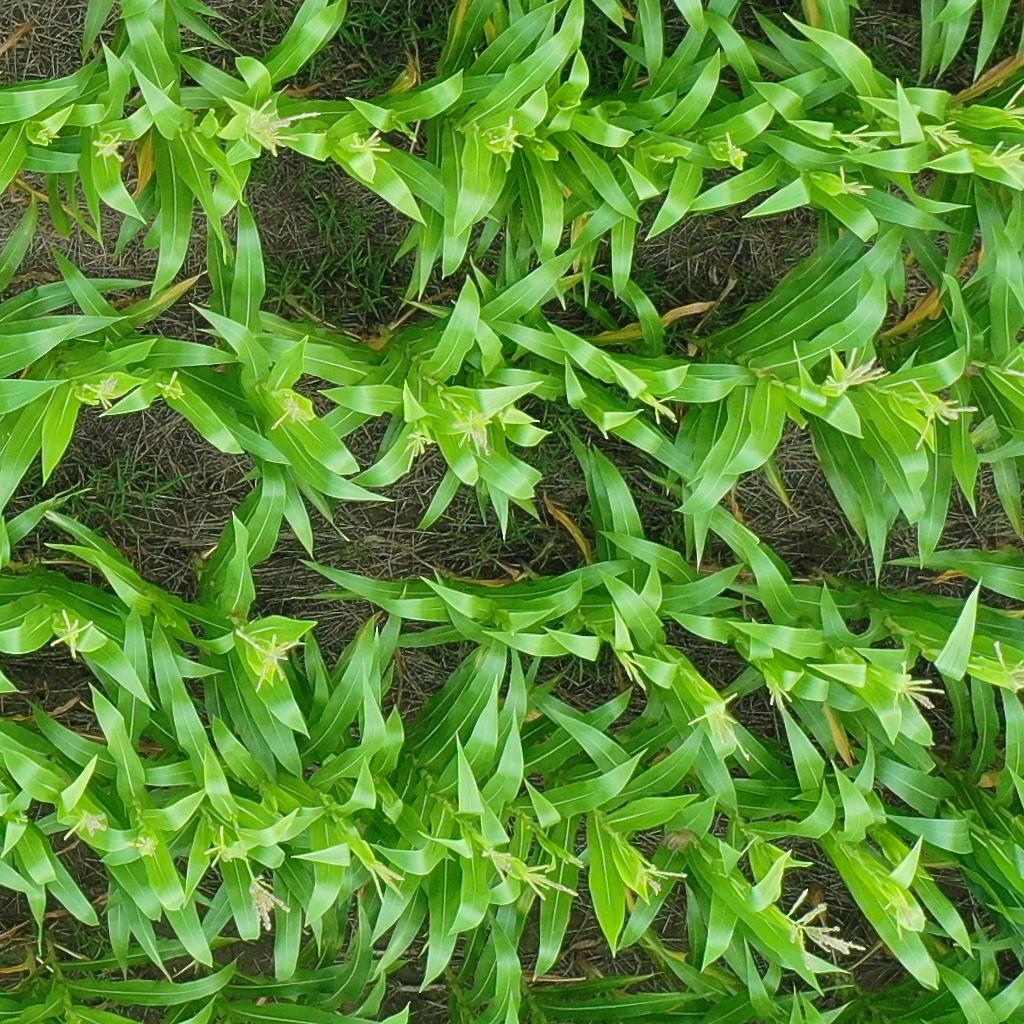Tassel: (784, 886, 867, 973), (239, 94, 319, 161), (909, 377, 981, 450), (235, 624, 308, 696), (685, 689, 753, 763), (819, 347, 889, 398), (885, 657, 946, 713), (448, 405, 500, 466), (245, 874, 296, 935), (519, 862, 584, 907), (50, 604, 97, 661), (632, 858, 692, 901), (982, 640, 1024, 697), (365, 856, 409, 908), (614, 649, 661, 696), (882, 886, 922, 941), (544, 829, 587, 879), (836, 122, 905, 153), (264, 391, 311, 435), (483, 113, 528, 158), (396, 428, 439, 475), (201, 824, 244, 870), (984, 139, 1024, 188), (924, 115, 974, 154), (639, 386, 682, 430), (343, 123, 393, 160), (88, 126, 133, 167), (63, 807, 111, 845), (79, 374, 122, 414), (836, 165, 879, 201), (486, 843, 520, 885), (123, 832, 165, 863), (156, 368, 190, 404), (1000, 80, 1024, 128), (722, 130, 750, 169), (762, 678, 792, 709), (998, 352, 1024, 383), (33, 126, 61, 147), (12, 810, 31, 827)
